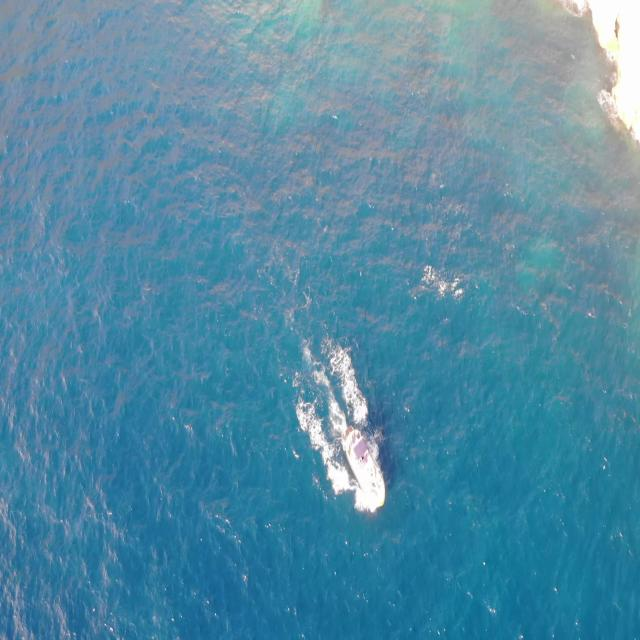boat: (339, 421, 386, 510)
